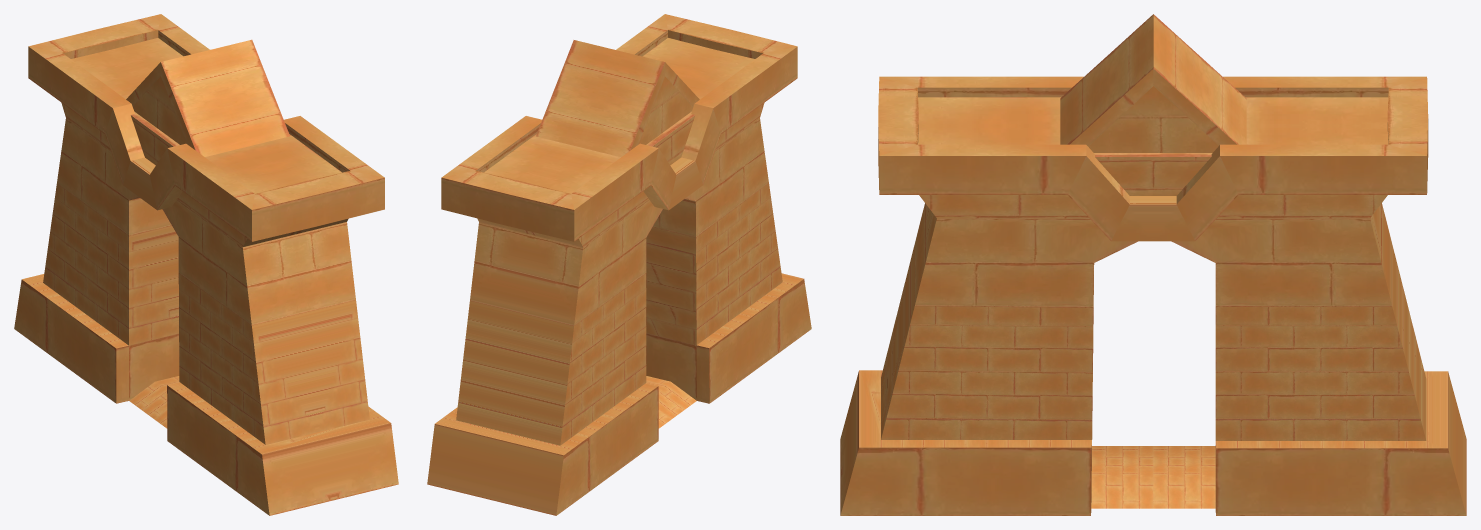
The model's file is pm-temple-arch-02.glb.
3 renders of one model, left to right at view 1: azimuth 30°, elevation 25°; view 2: azimuth 150°, elevation 25°; view 3: azimuth 270°, elevation 25°, orthographic. The views are drawn at different scales.
Visible parts, largest first — view 1: TempleArch02_Art; view 2: TempleArch02_Art; view 3: TempleArch02_Art.
Boxes of the visible parts, x1,y1,x2,y2 form: TempleArch02_Art: [14, 14, 398, 515]; TempleArch02_Art: [427, 14, 811, 515]; TempleArch02_Art: [840, 14, 1466, 515].
Bounding box in the file's own units: 8.98 × 22.99 × 29.92.
Materials: 2 (2 with a texture image).
